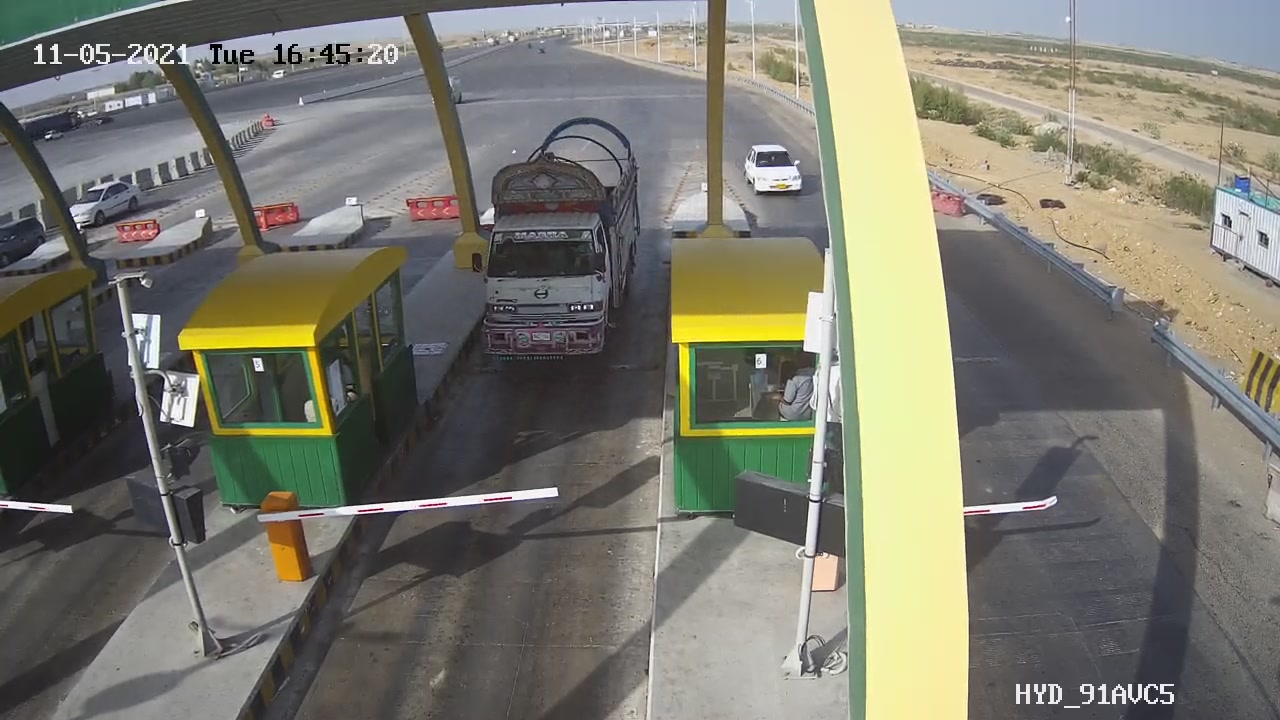F5: (457, 99, 667, 382)
